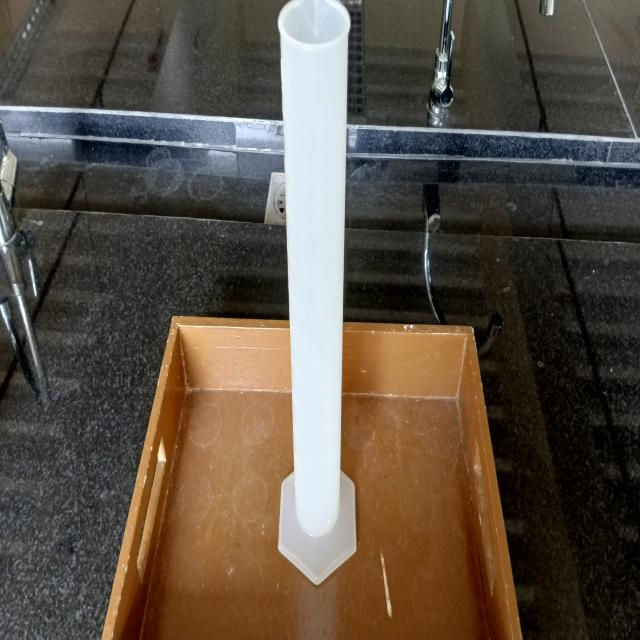graduated_cylinder: (269, 0, 369, 582)
